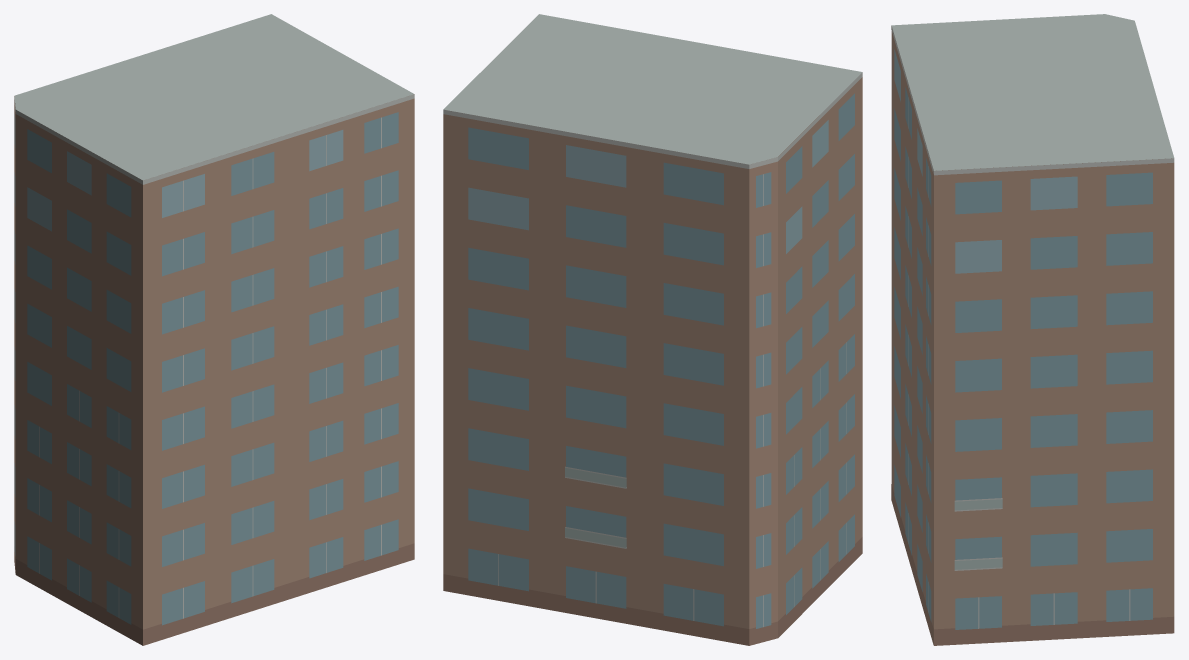
File: survey-upis-33028654.glb
3 views of the same model, side by side, from view 1: azimuth 30°, elevation 25°; view 2: azimuth 150°, elevation 25°; view 3: azimuth 270°, elevation 25° (orthographic). The views are drawn at different scales.
Visible parts, largest first — view 1: survey-upis-33028654.tmp; view 2: survey-upis-33028654.tmp; view 3: survey-upis-33028654.tmp.
Boxes of the visible parts, left/top/right/bottom form: survey-upis-33028654.tmp: left=14, top=14, right=414, bottom=645; survey-upis-33028654.tmp: left=443, top=14, right=862, bottom=645; survey-upis-33028654.tmp: left=891, top=14, right=1174, bottom=645.
Bounding box in the file's own units: 18.35 × 25.9 × 13.99.
